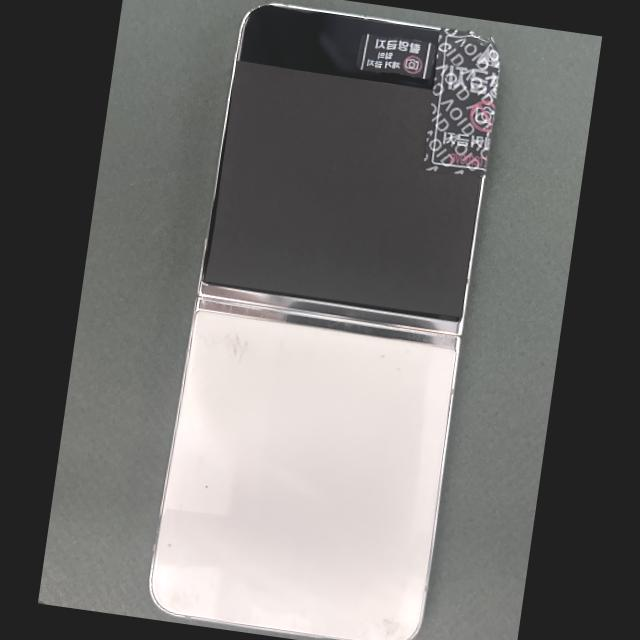phone: (150, 5, 498, 639)
sticker: (423, 27, 500, 179), (357, 34, 435, 79)
